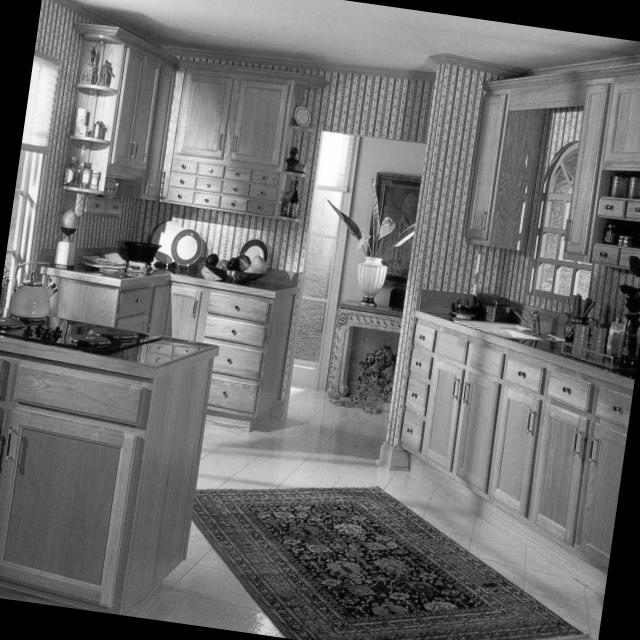carpet floor: (194, 485, 587, 640)
ceiling beam: (77, 0, 640, 73)
cupboard crop: (166, 68, 288, 217)
floor -X: (137, 383, 604, 640)
sink basin: (468, 320, 545, 337)
stove burner: (0, 312, 151, 353)
vase -X: (358, 253, 389, 306)
